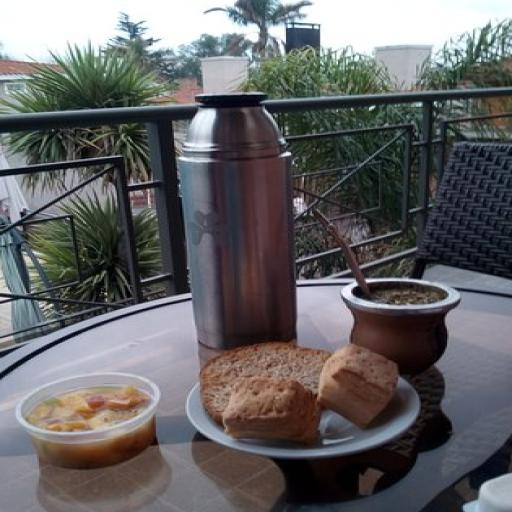bolleria: (200, 342, 331, 424), (218, 378, 334, 445), (317, 345, 398, 429)
mate: (339, 277, 465, 347)
termo: (182, 92, 292, 340)
